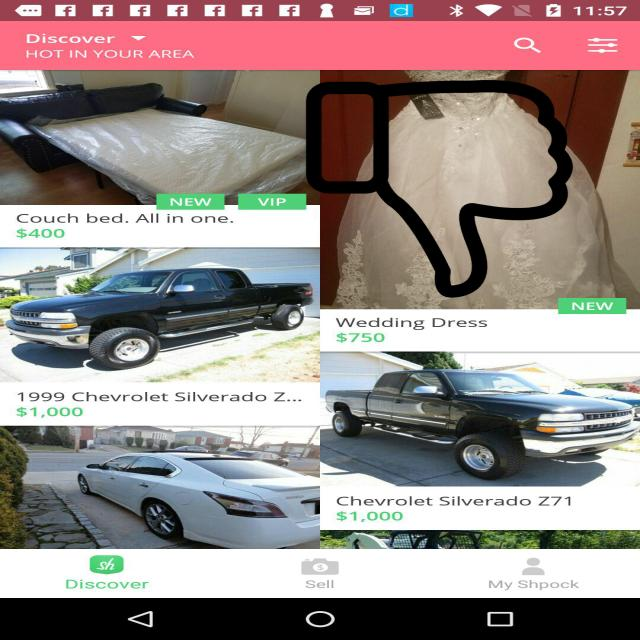obstruction: (302, 80, 577, 298)
